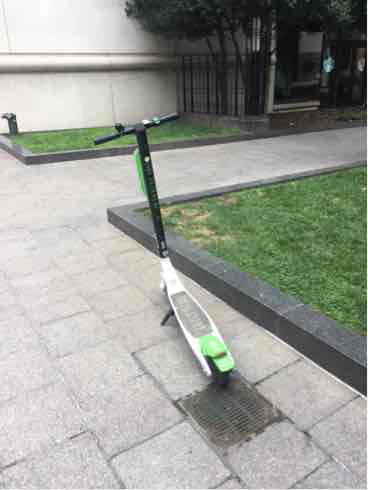scooter: (90, 106, 246, 388)
